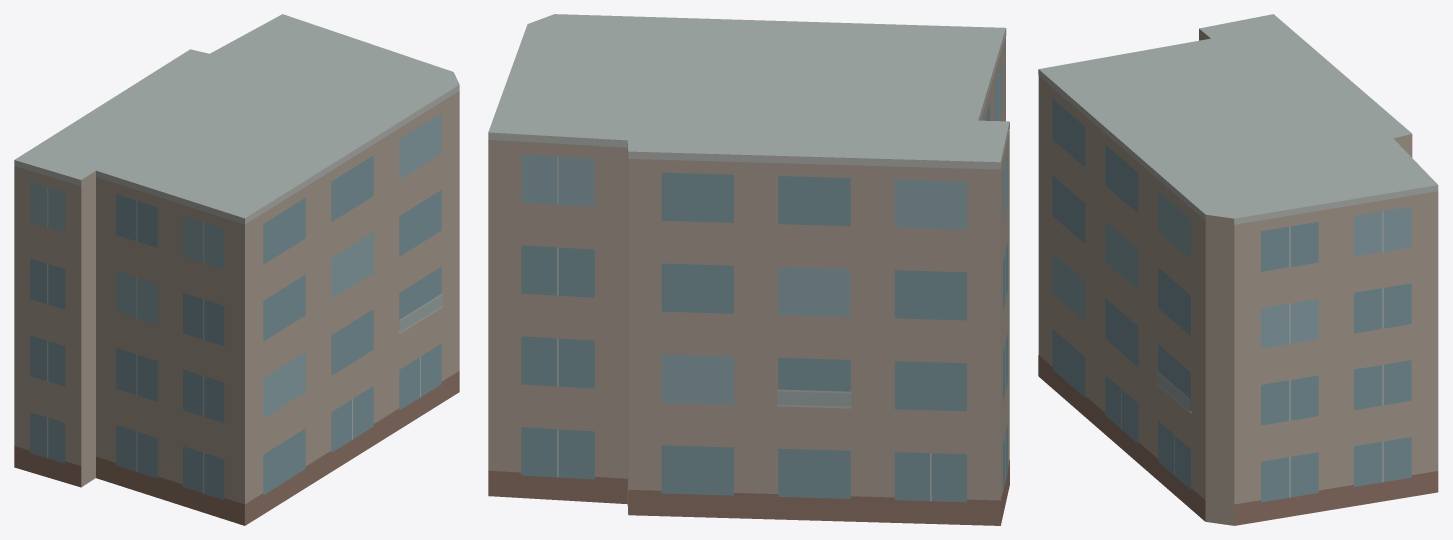
File: survey-upis-32996319.glb
3 views of the same model, side by side, from view 1: azimuth 30°, elevation 25°; view 2: azimuth 150°, elevation 25°; view 3: azimuth 270°, elevation 25° (orthographic). The views are drawn at different scales.
Parts seen in each view (by area): view 1: survey-upis-32996319.tmp; view 2: survey-upis-32996319.tmp; view 3: survey-upis-32996319.tmp.
Boxes of the visible parts, left/top/right/bottom form: survey-upis-32996319.tmp: left=14, top=14, right=459, bottom=525; survey-upis-32996319.tmp: left=488, top=14, right=1009, bottom=525; survey-upis-32996319.tmp: left=1038, top=14, right=1438, bottom=525.
Size of the model in its own units: 17.44 by 12.2 by 14.4.
